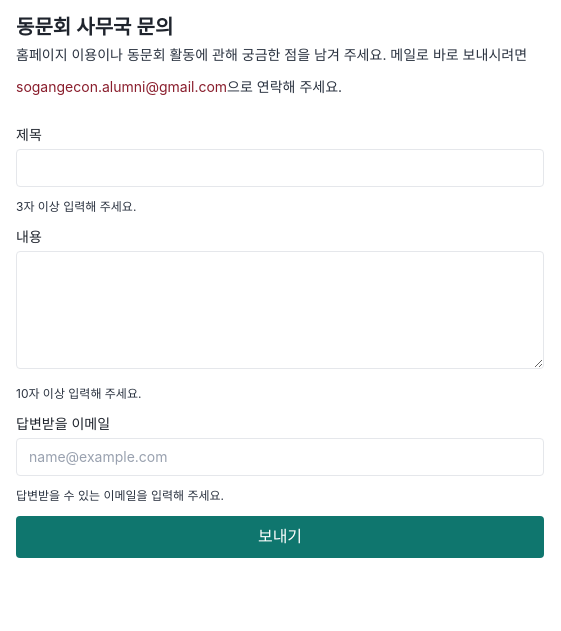
Test: 사무국 문의 화면 › 연속 접수 제한은 기다릴 시간을 구체적으로 안내한다
In the field labelled "제목": (280, 168) [16,149,544,187], type "문의 제목"
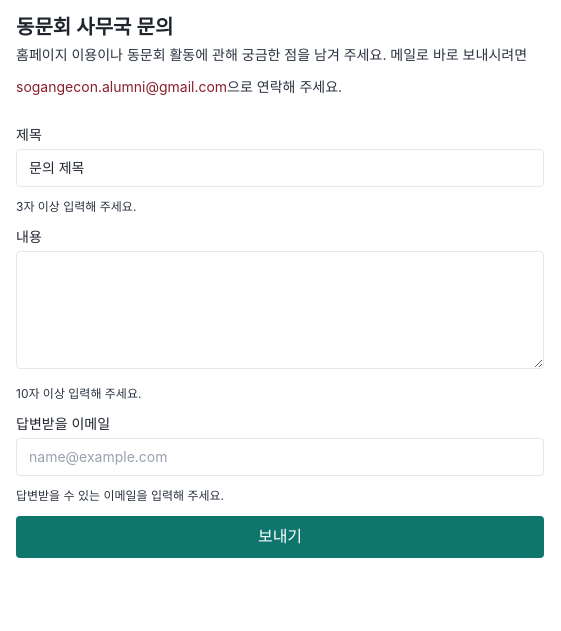
In the text box labelled "내용": (280, 310) [16,251,544,369], type "문의 내용은 충분히 길게 입력합니다."
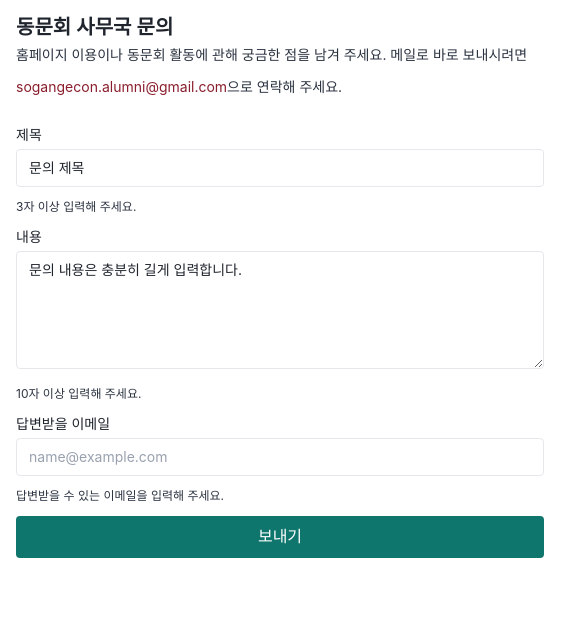
In the field labelled "답변받을 이메일": (280, 457) [16,438,544,476], type "member@example.com"
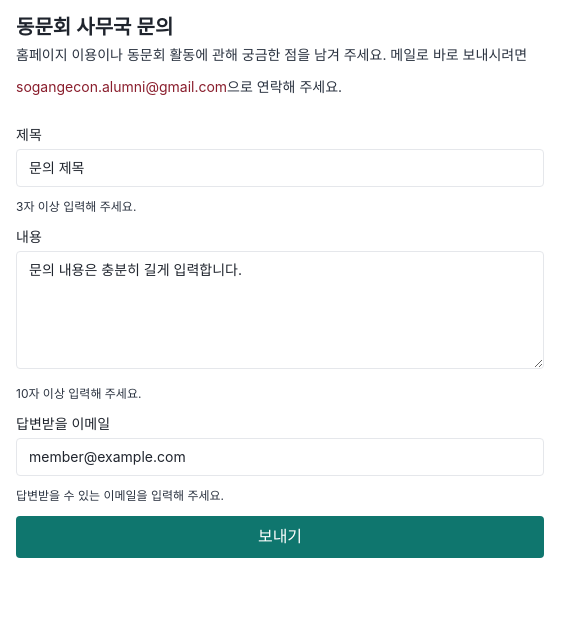
Click the button "보내기": (280, 537) [16,516,544,558]
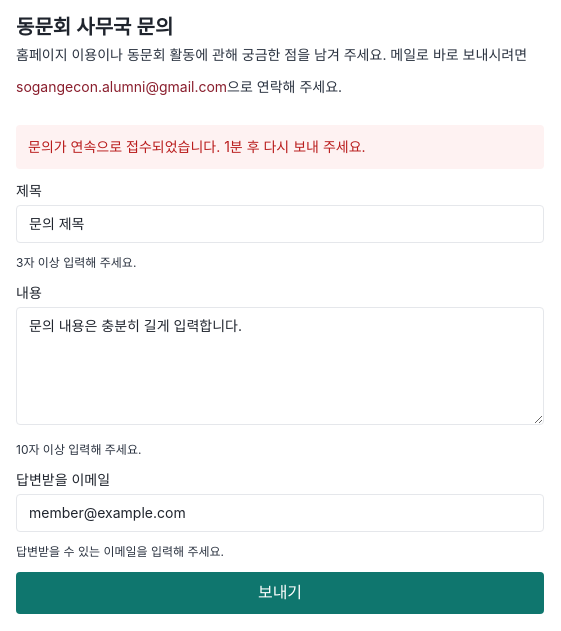
expect the message reads "문의가 연속으로 접수되었습니다. 1분 후 다시 보내 주세요.": met, box [28,138,366,155]
